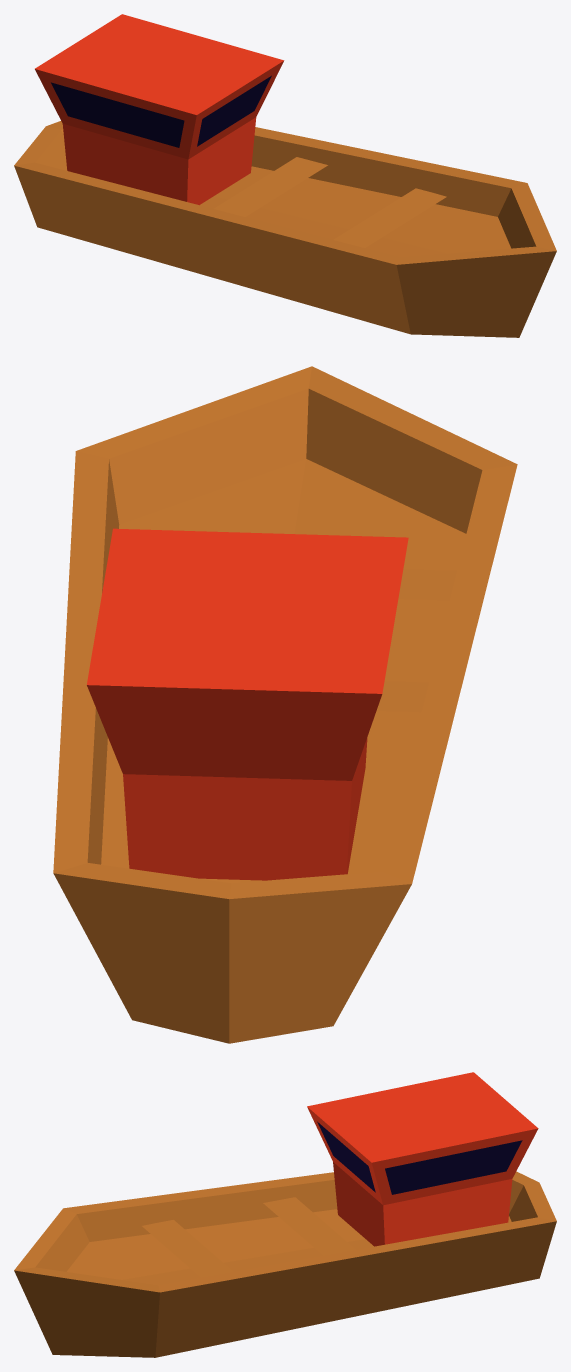
Rendered from boat.obj.
3 views of the same model, one above another, from view 1: azimuth 30°, elevation 25°; view 2: azimuth 150°, elevation 25°; view 3: azimuth 270°, elevation 25° (orthographic). The views are drawn at different scales.
Visible parts, largest first — view 1: Cube.014, topofboat.001, winodw.001; view 2: Cube.014, topofboat.001; view 3: Cube.014, topofboat.001, winodw.001.
Boxes of the visible parts, x1,y1,x2,y2 form: Cube.014: [14, 121, 556, 337]; topofboat.001: [35, 14, 284, 205]; winodw.001: [51, 75, 271, 147]; Cube.014: [53, 366, 517, 1043]; topofboat.001: [87, 528, 408, 880]; Cube.014: [14, 1171, 556, 1357]; topofboat.001: [307, 1072, 538, 1246]; winodw.001: [317, 1121, 522, 1194].
Bounding box in the file's own units: 0.5292 × 0.2494 × 0.7602.
Materials: 3 (3 with a texture image).
